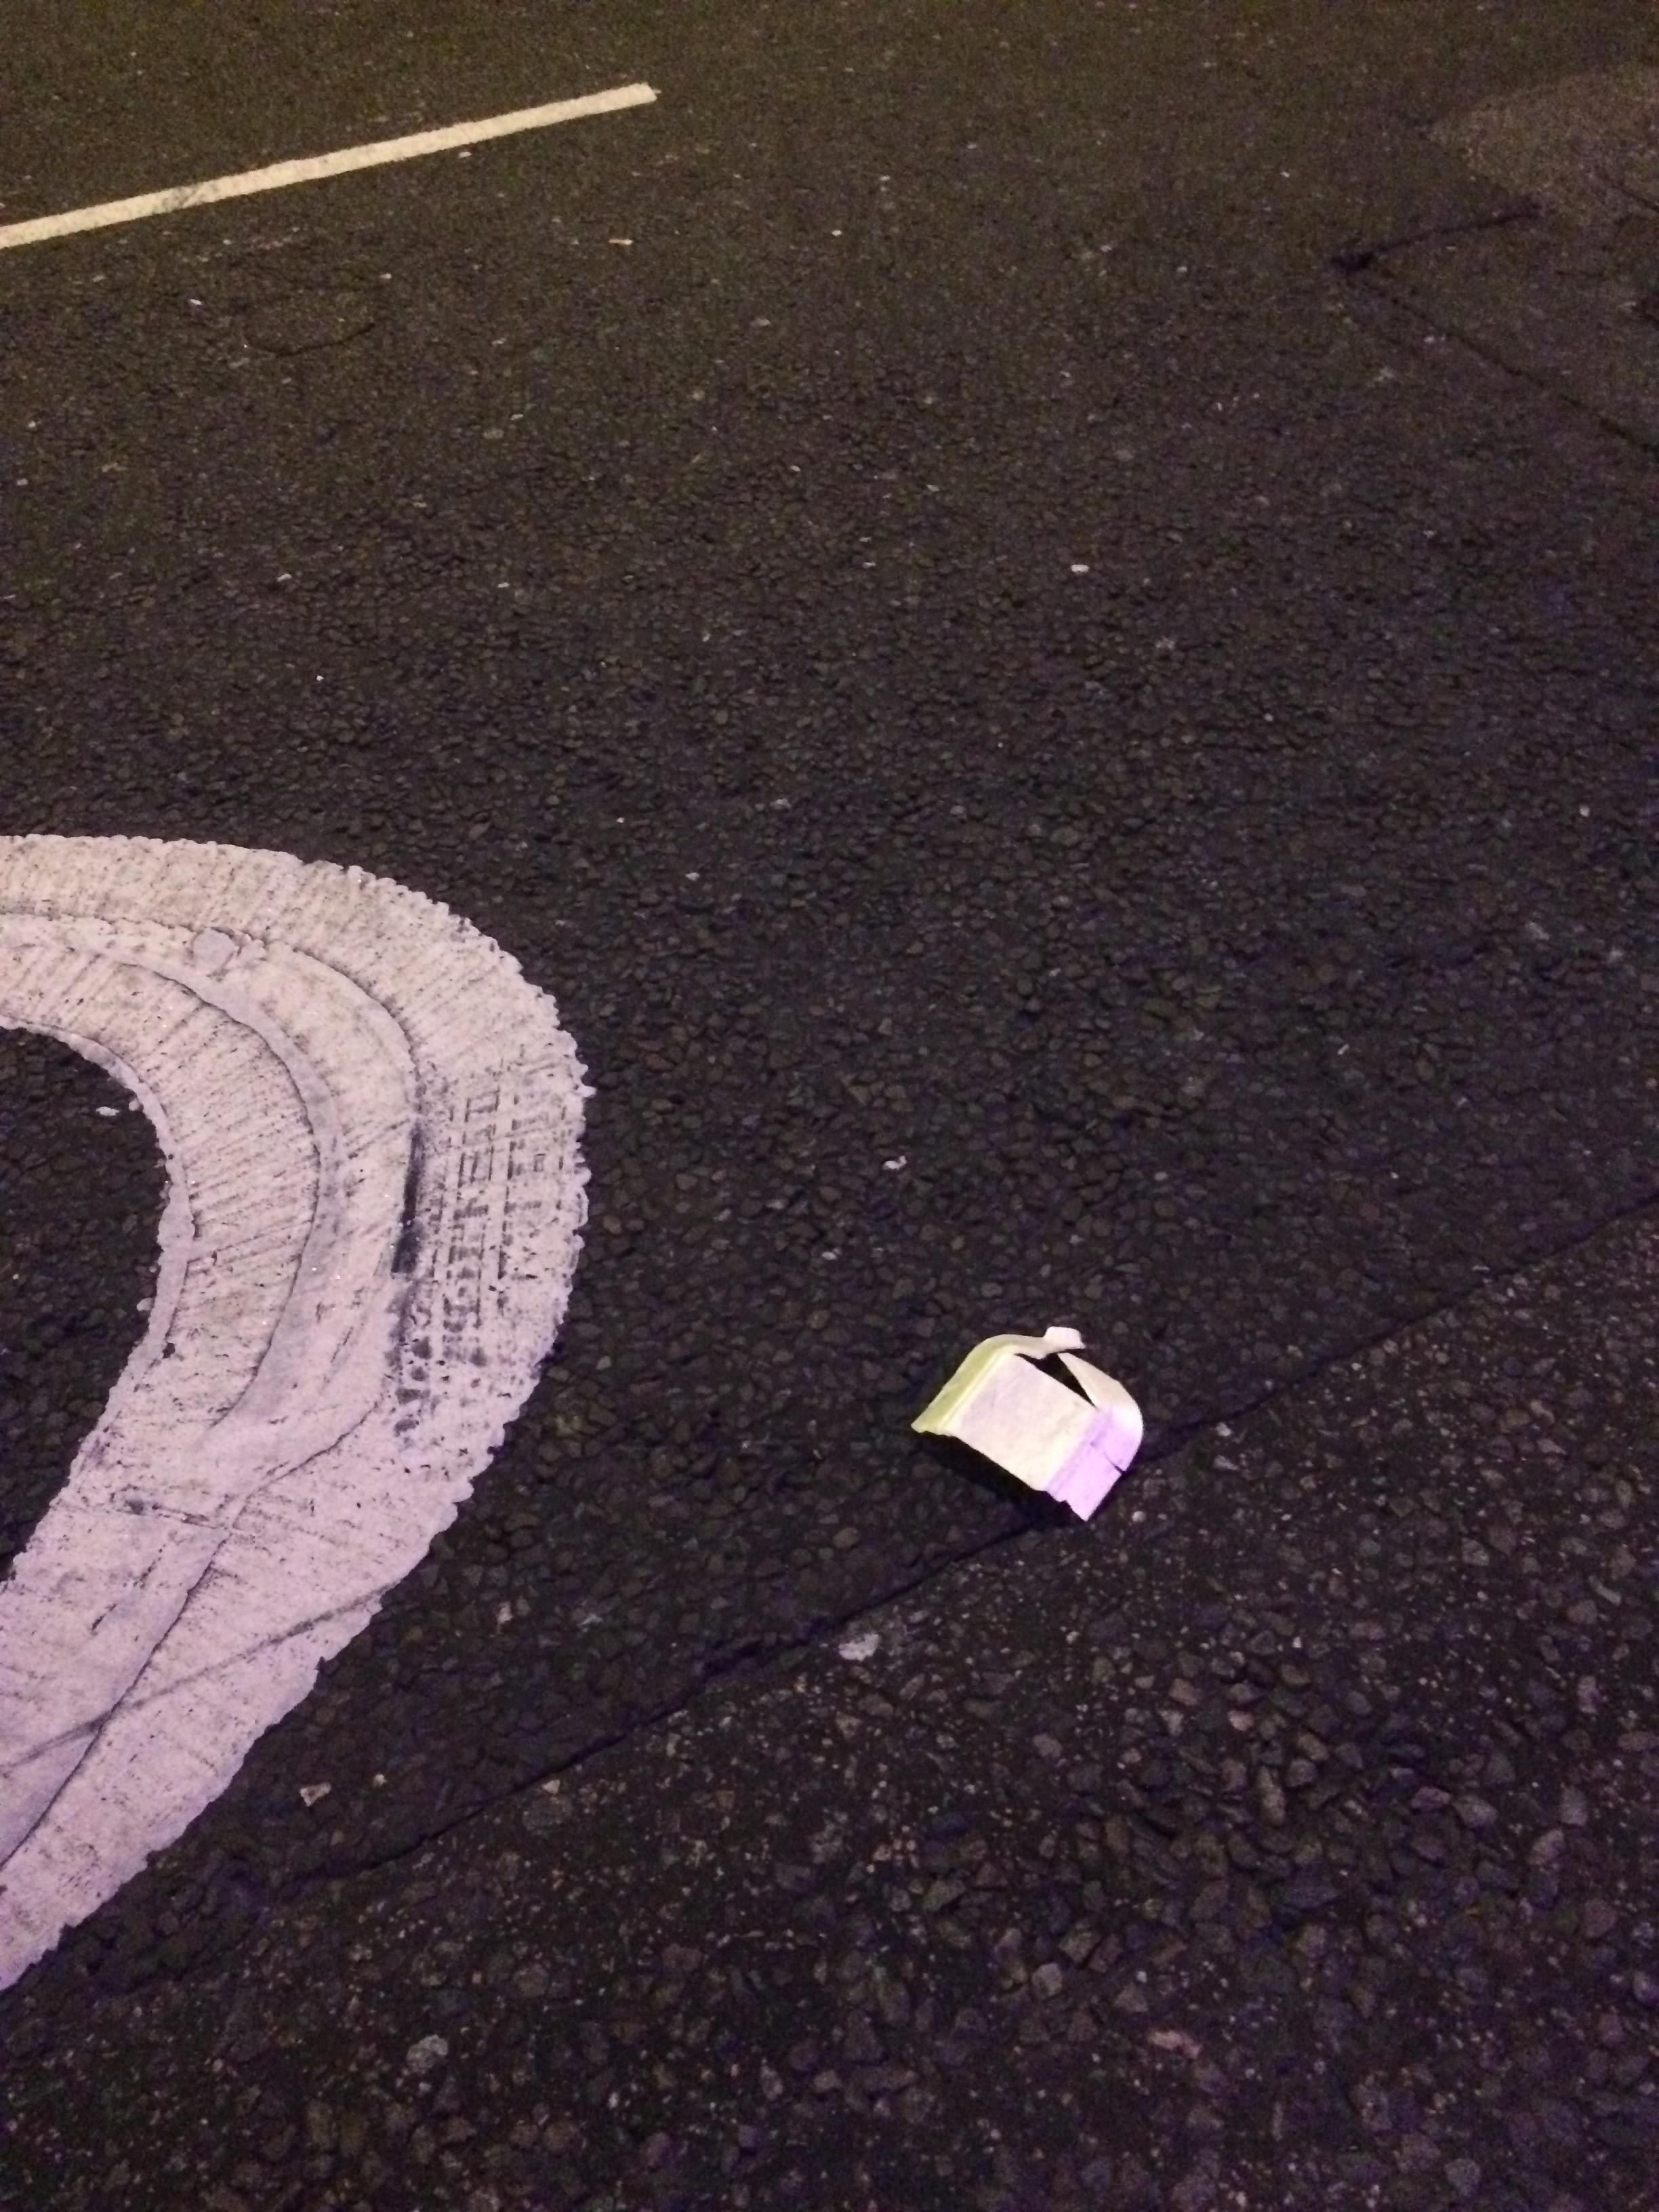Trash: (925, 1291, 1138, 1526)
